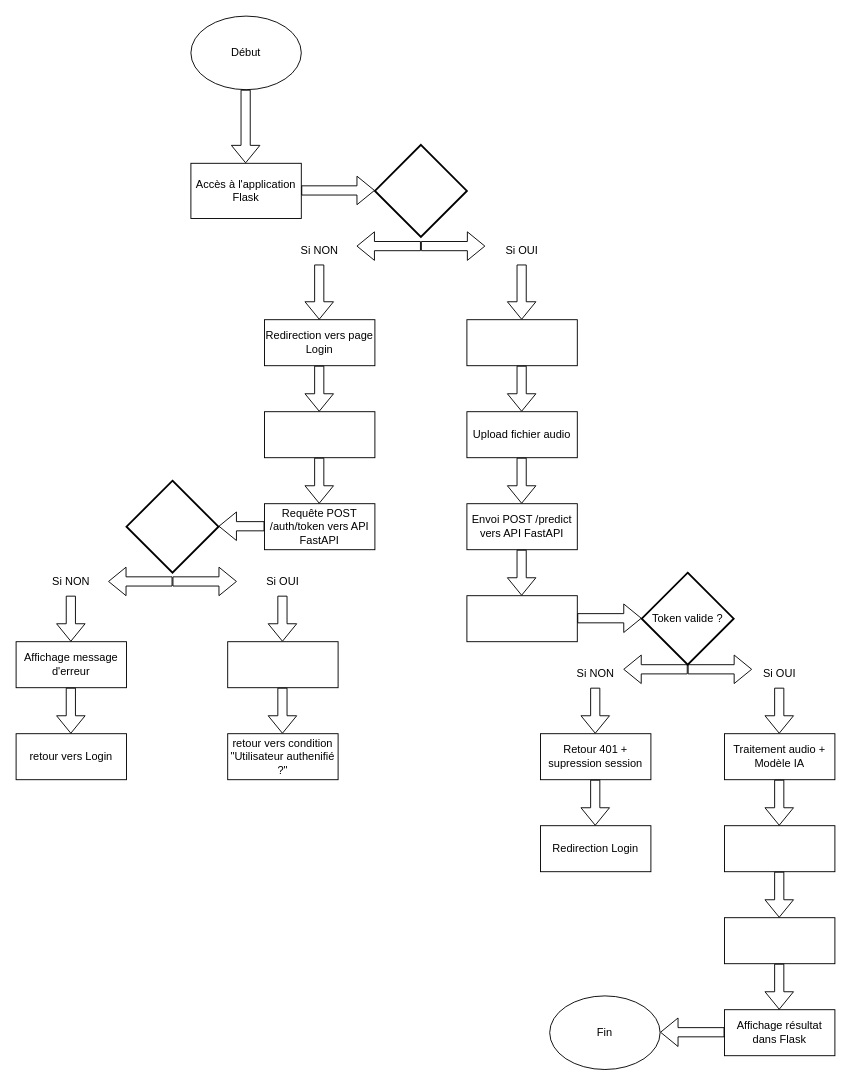
Image size: 851x1086. Some labels were removed from this diagram. The centre of each missing label's shape, as x and y in pixels:
"Affichage Dashboard" belongs at [521,342].
"Identifiants valides ?" belongs at [172,526].
"Retour JSON (Label + Confidence)" belongs at [779,940].
"Saisie identifiants" belongs at [319,434].
"Stockage JWT en session Flask" belongs at [282,664].
"Stockage résultat en base MongoDB" belongs at [779,848].
"Utilisateur authentifié" belongs at [420,190].
"Vérification JWT côté API" belongs at [521,618].
